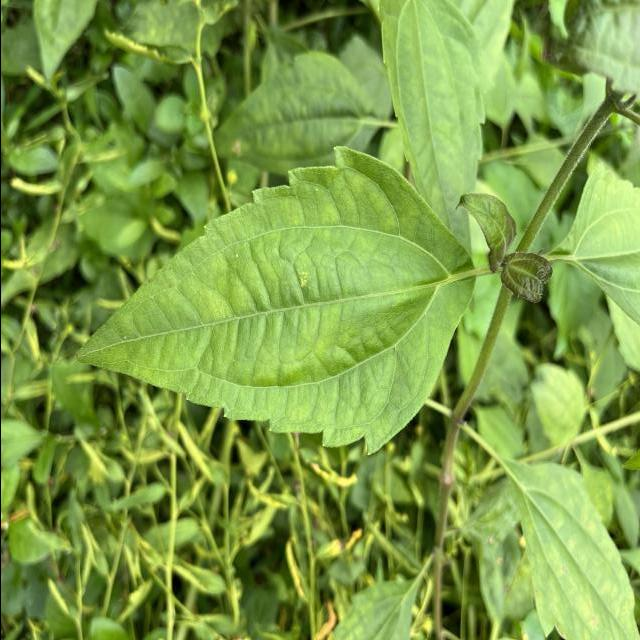Chromolaena odorata: (70, 142, 482, 464)
